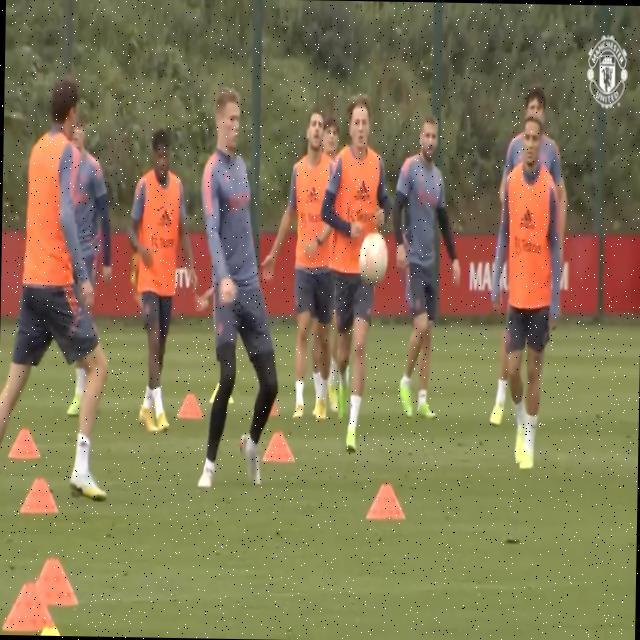Adidas: (355, 179, 371, 203), (304, 183, 320, 206), (157, 207, 173, 229), (520, 207, 535, 230)
